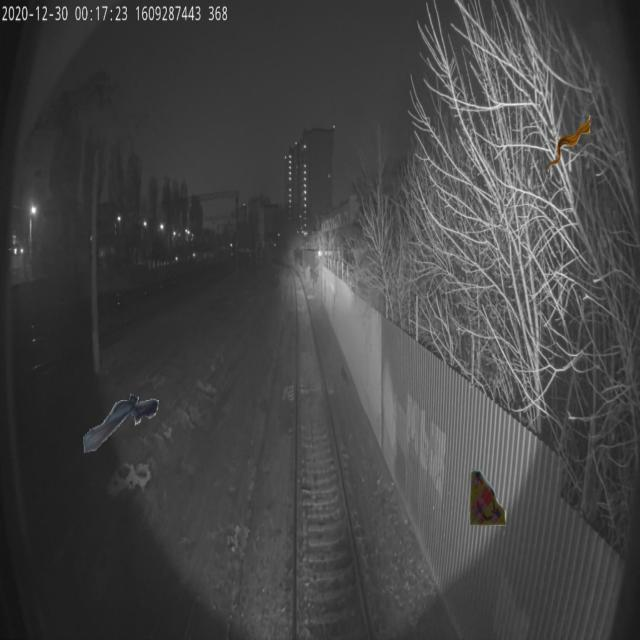floating object: (83, 389, 159, 454), (546, 112, 590, 176), (468, 466, 507, 530)
